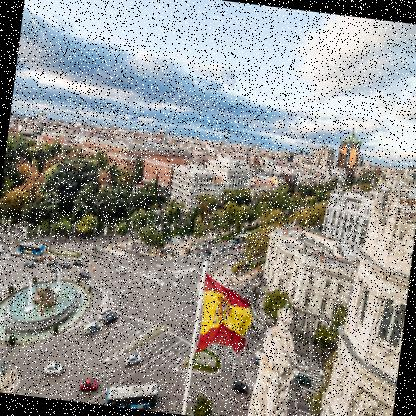es: (196, 274, 257, 363)
